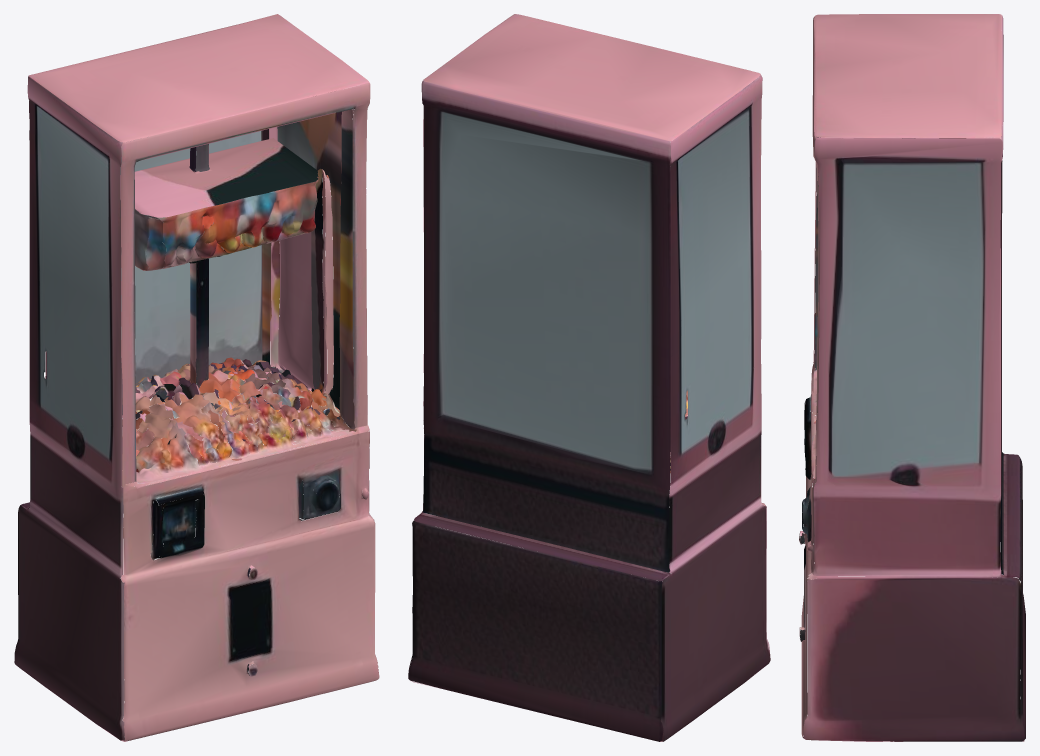
The model's file is claw.glb.
The picture shows the model from 3 angles, left to right: view 1: azimuth 30°, elevation 25°; view 2: azimuth 150°, elevation 25°; view 3: azimuth 270°, elevation 25°; orthographic projection.
Parts seen in each view (by area): view 1: claw; view 2: claw; view 3: claw.
Part boxes in pixels (x1,y1,x2,y2): claw: (14, 14, 379, 741); claw: (408, 14, 770, 741); claw: (799, 14, 1025, 741).
Size of the model in its own units: 0.86 by 1.9 by 0.6457.
1 material, 1 textured.
